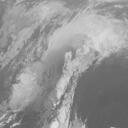cyclone: (29, 31, 94, 97)
